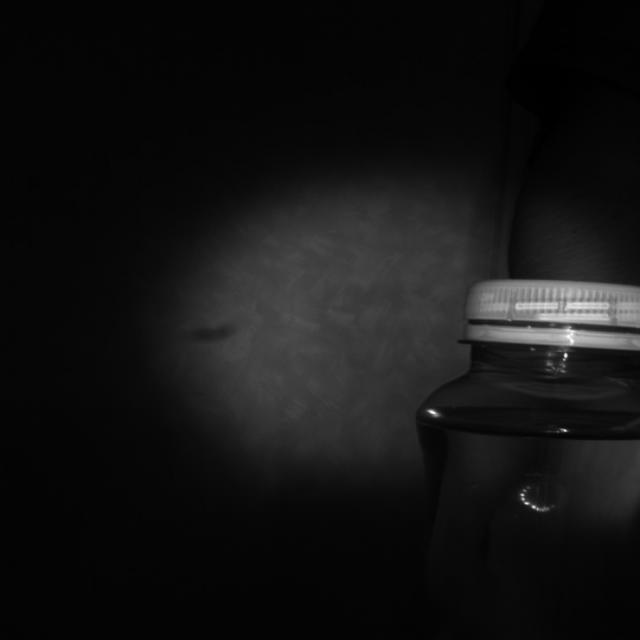Not Good: (463, 278, 640, 352)
